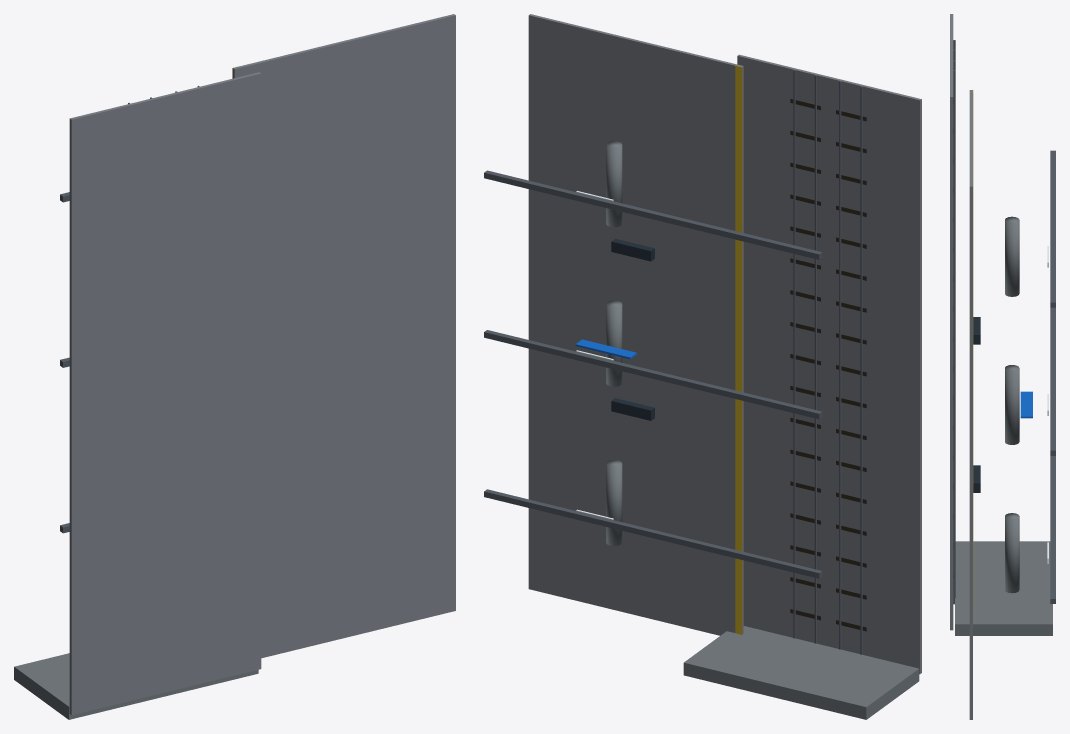
File: railway_station.obj
3 views of the same model, side by side, from view 1: azimuth 30°, elevation 25°; view 2: azimuth 150°, elevation 25°; view 3: azimuth 270°, elevation 25° (orthographic). The views are drawn at different scales.
Parts seen in each view (by area): view 1: RailwayStationMesh; view 2: RailwayStationMesh; view 3: RailwayStationMesh.
Boxes of the visible parts, box(x1,y1,x2,y2) form: RailwayStationMesh: box(14, 14, 455, 719); RailwayStationMesh: box(484, 14, 921, 719); RailwayStationMesh: box(950, 14, 1055, 719).
Bounding box in the file's own units: 25 × 36.4 × 6.48.
